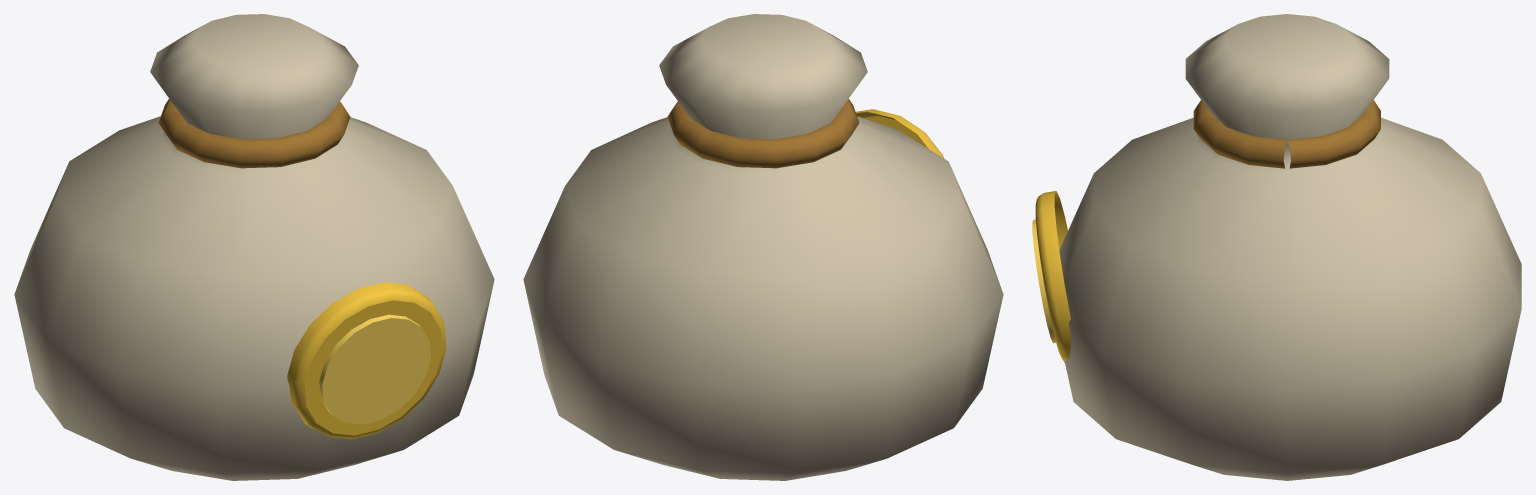
Rendered from item_money_bag.glb.
3 renders of one model, left to right at view 1: azimuth 30°, elevation 25°; view 2: azimuth 150°, elevation 25°; view 3: azimuth 270°, elevation 25°, orthographic.
Visible parts, largest first — view 1: item_money_bag_main, item_money_bag_gloss; view 2: item_money_bag_main, item_money_bag_gloss; view 3: item_money_bag_main, item_money_bag_gloss.
Boxes of the visible parts, x1,y1,x2,y2 form: item_money_bag_main: (14,14,494,480); item_money_bag_gloss: (287,282,446,439); item_money_bag_main: (523,14,1003,480); item_money_bag_gloss: (855,109,943,157); item_money_bag_main: (1059,14,1521,480); item_money_bag_gloss: (1032,191,1071,362).
Bounding box in the file's own units: 0.23 × 0.2 × 0.2342.
